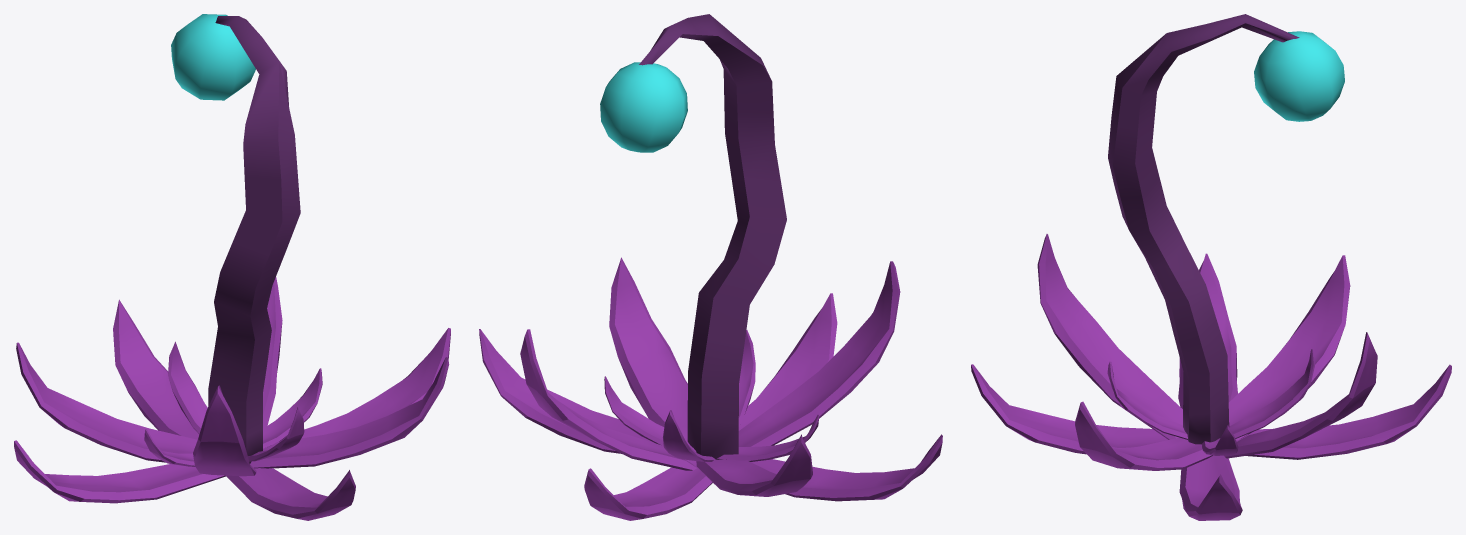
The model's file is Plante_sphere_01.fbx.
3 views of the same model, side by side, from view 1: azimuth 30°, elevation 25°; view 2: azimuth 150°, elevation 25°; view 3: azimuth 270°, elevation 25° (orthographic). The views are drawn at different scales.
Parts seen in each view (by area): view 1: Plante_Sphere_01; view 2: Plante_Sphere_01; view 3: Plante_Sphere_01.
Part boxes in pixels (x1,y1,x2,y2): Plante_Sphere_01: (14,14,450,520); Plante_Sphere_01: (479,14,942,520); Plante_Sphere_01: (971,14,1451,520).
Bounding box in the file's own units: 1.17 × 1.09 × 1.07.
